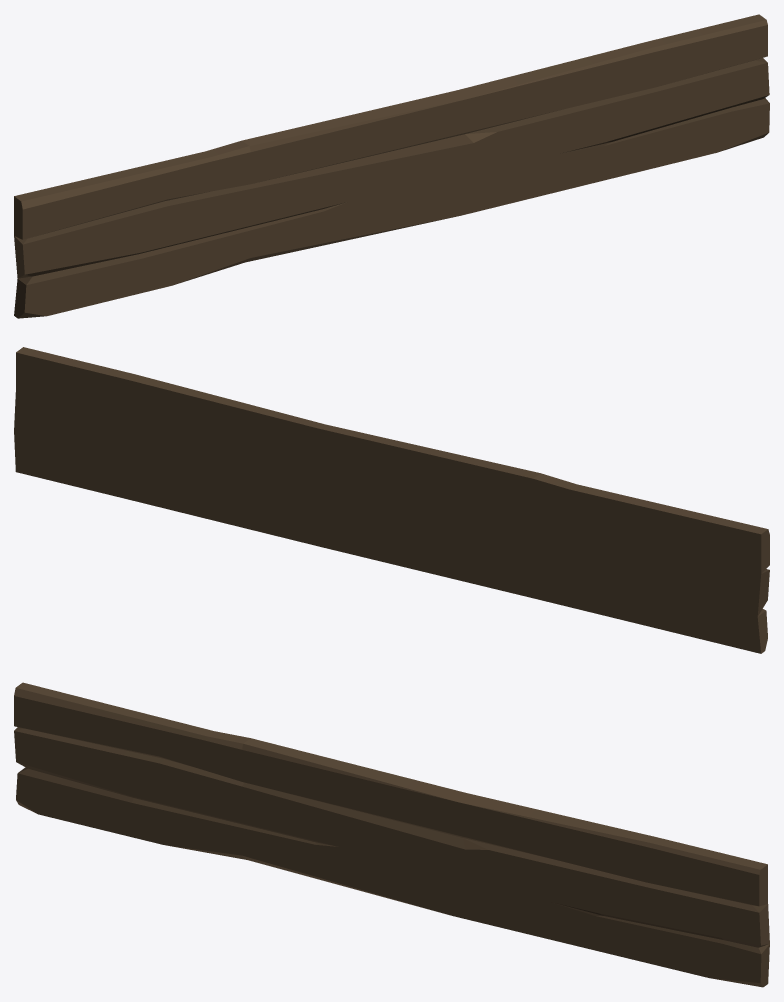
File: SM_Sign_Backing_Long_01.obj
3 renders of one model, top to bottom at view 1: azimuth 30°, elevation 25°; view 2: azimuth 150°, elevation 25°; view 3: azimuth 330°, elevation 25°, orthographic.
Parts seen in each view (by area): view 1: SM_Sign_Backing_Long_01_0; view 2: SM_Sign_Backing_Long_01_0; view 3: SM_Sign_Backing_Long_01_0.
Part boxes in pixels (left/top/right/bottom): SM_Sign_Backing_Long_01_0: left=14, top=14, right=769, bottom=318; SM_Sign_Backing_Long_01_0: left=14, top=347, right=769, bottom=653; SM_Sign_Backing_Long_01_0: left=14, top=682, right=769, bottom=987.
Bounding box in the file's own units: 8.03 × 1.23 × 0.1633.
Materials: 1 (1 with a texture image).
